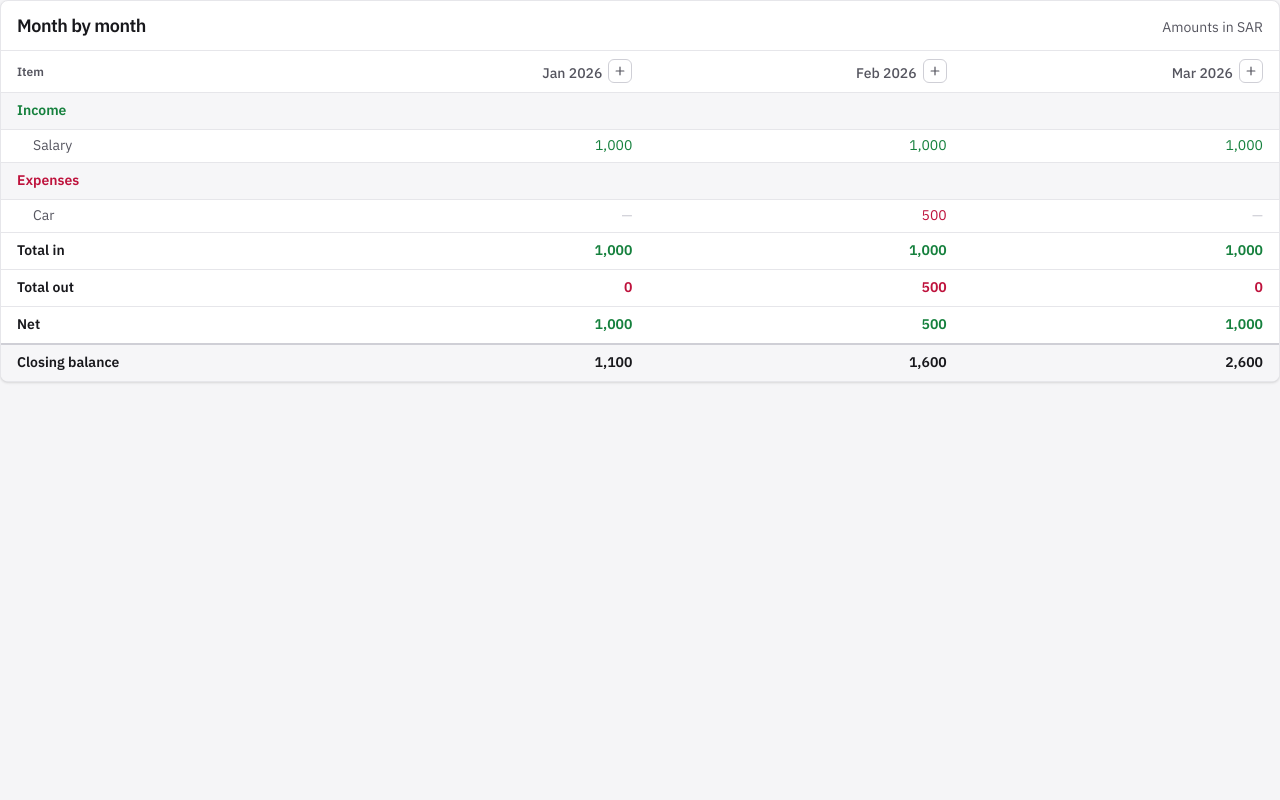
Test: TimelineGrid › removes an item from one month through its cell
Click the button named "Edit Salary in Feb 2026" at (928, 146), box [648, 130, 963, 162]
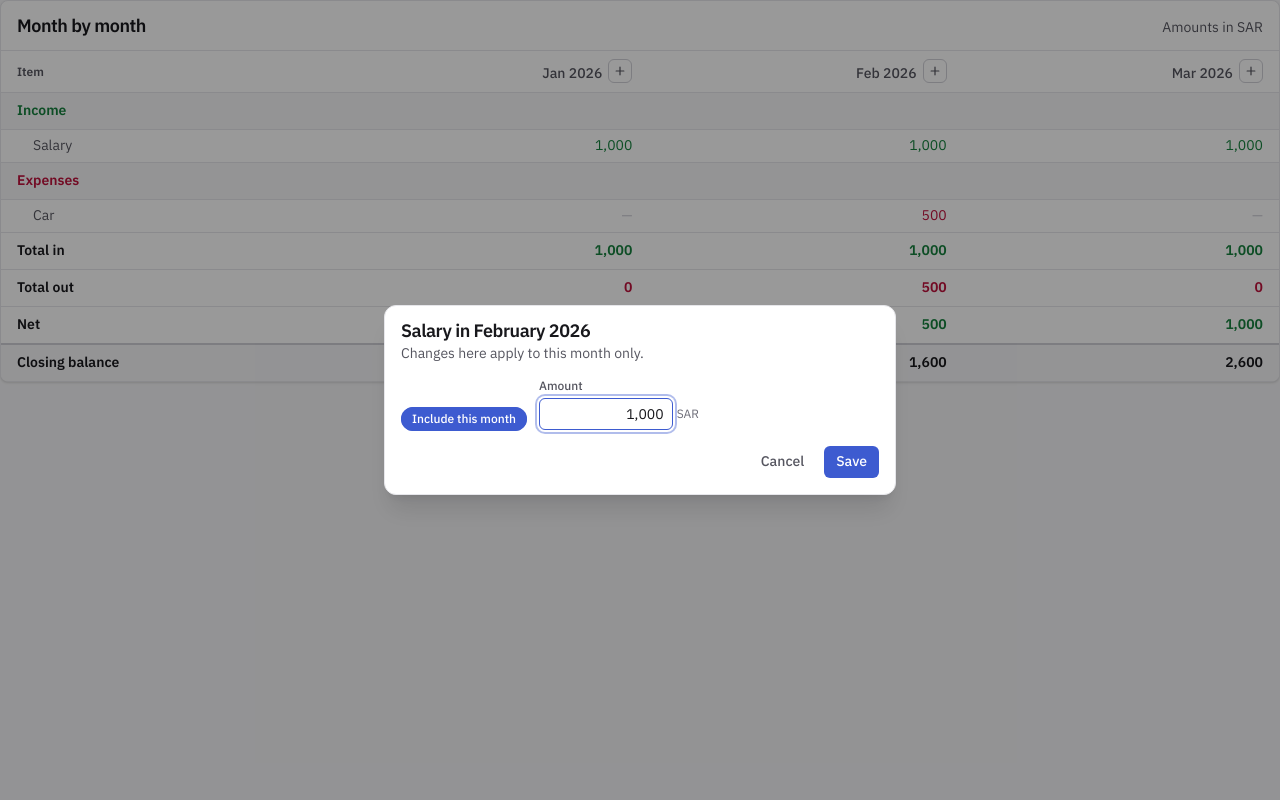
Expected: the dialog "Salary in February 2026" is shown, [384, 305, 896, 495]
Click the text "Include this month" at (464, 419), box [401, 407, 527, 431]
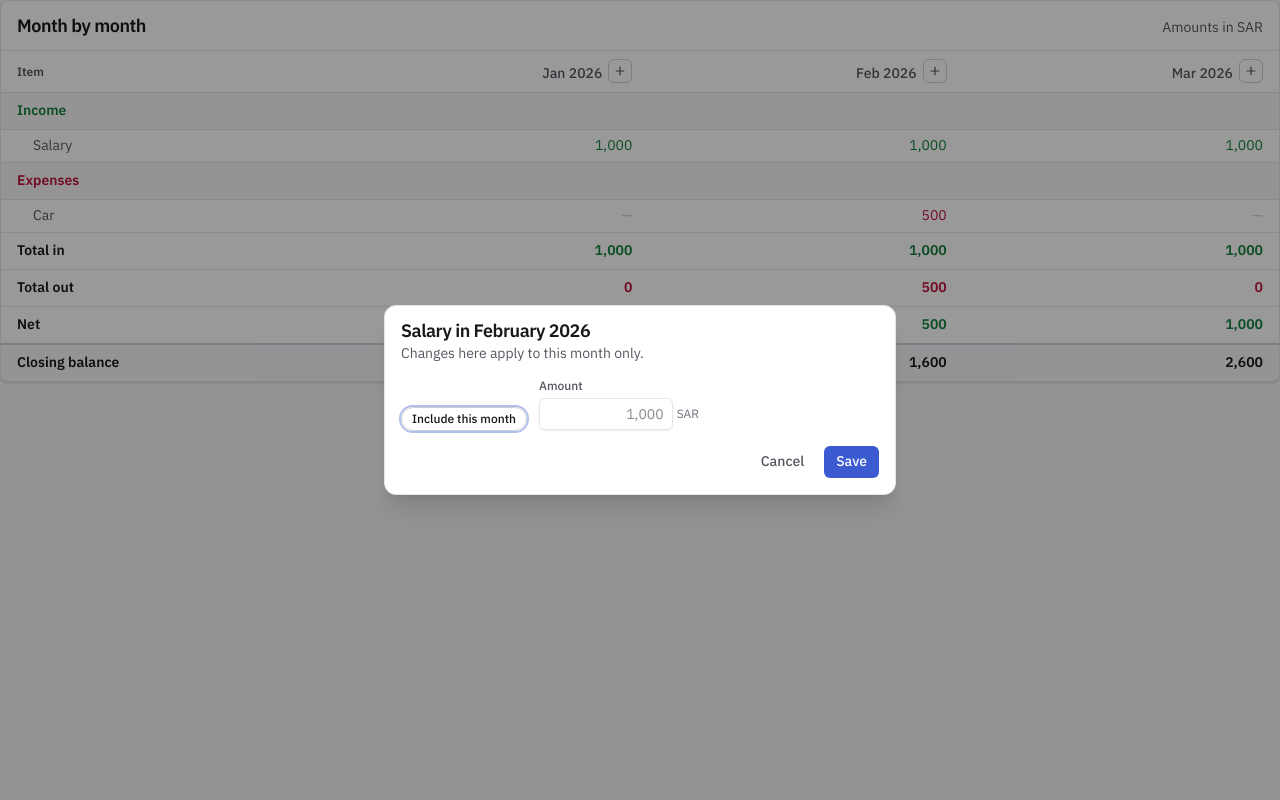
Click the button "Save" at (852, 462), box [824, 446, 879, 478]
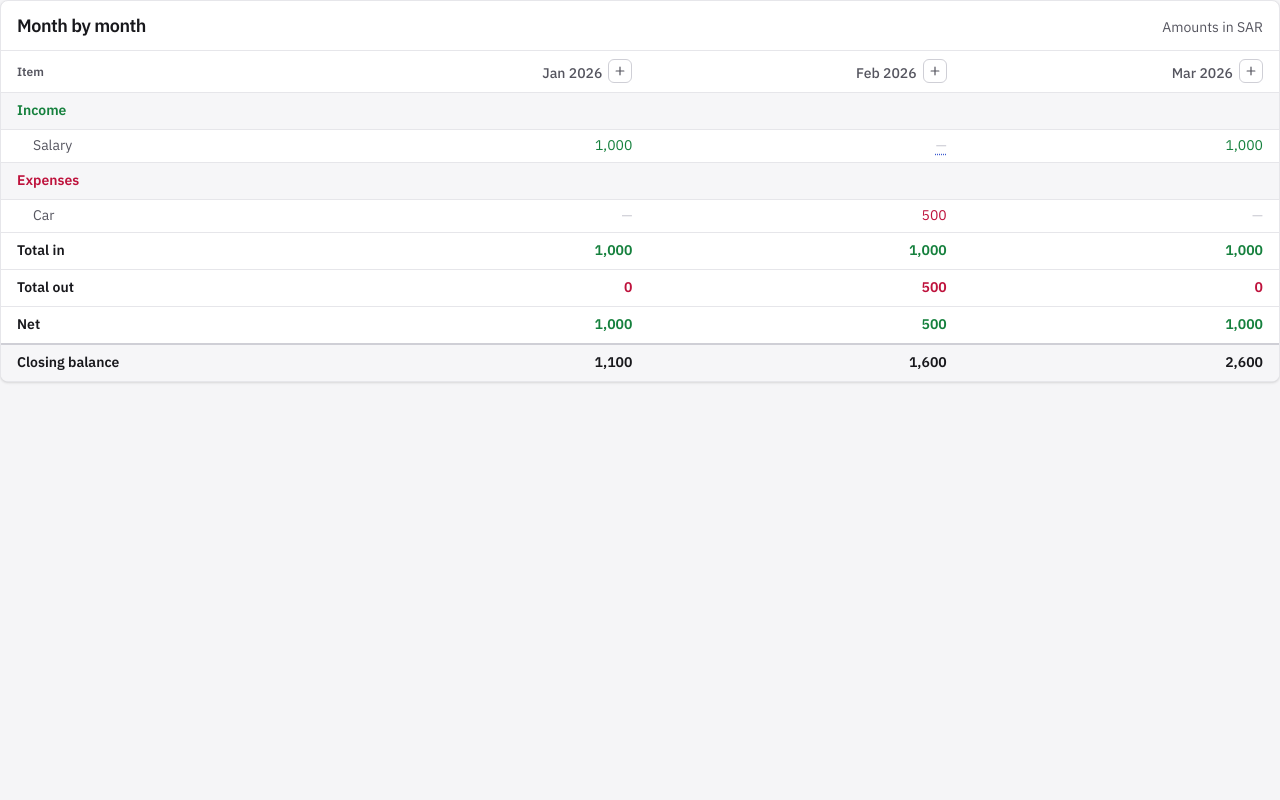
Expected: the button named "Edit Salary in Feb 2026" reads "—", [648, 130, 963, 162]
